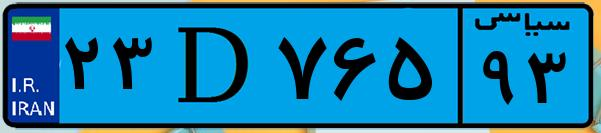2: (57, 26, 110, 100)
3: (525, 38, 570, 115), (110, 28, 158, 98)
5: (385, 28, 445, 110)
6: (330, 28, 385, 110)
7: (270, 28, 330, 110)
9: (475, 38, 525, 113)
D: (158, 12, 270, 120)
